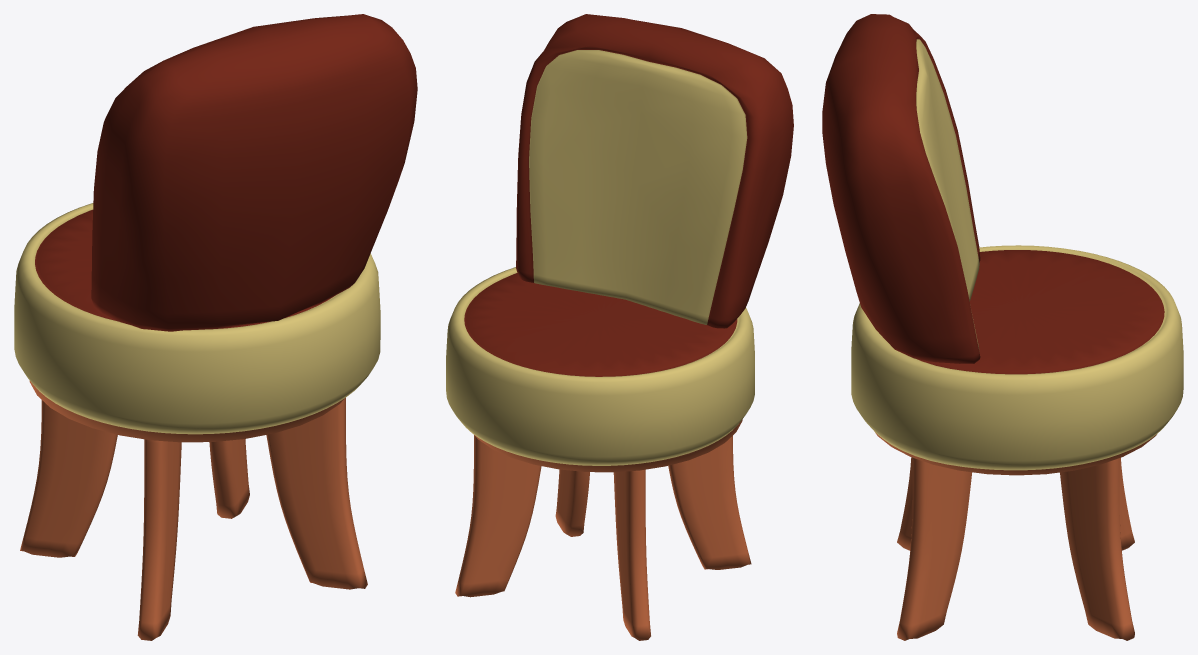
File: Chair.fbx
3 renders of one model, left to right at view 1: azimuth 30°, elevation 25°; view 2: azimuth 150°, elevation 25°; view 3: azimuth 270°, elevation 25°, orthographic. The views are drawn at different scales.
Parts seen in each view (by area): view 1: Cylinder.001; view 2: Cylinder.001; view 3: Cylinder.001.
Part boxes in pixels (x1,y1,x2,y2): Cylinder.001: [14, 14, 417, 640]; Cylinder.001: [446, 14, 793, 640]; Cylinder.001: [822, 14, 1183, 640].
Bounding box in the file's own units: 33.97 × 60.66 × 36.89.
